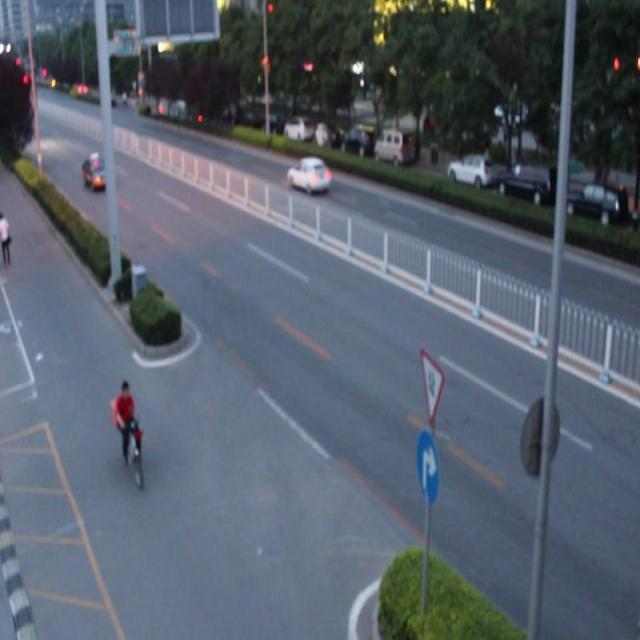car: (286, 157, 330, 196)
